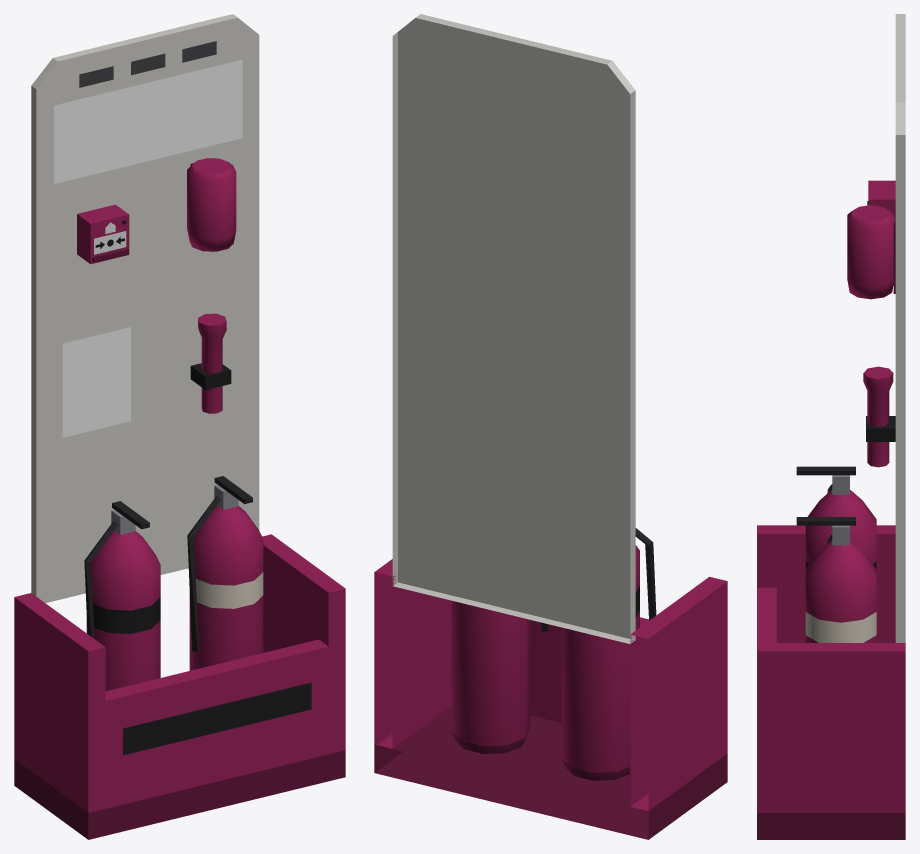
File: fire_point.glb
3 views of the same model, side by side, from view 1: azimuth 30°, elevation 25°; view 2: azimuth 150°, elevation 25°; view 3: azimuth 270°, elevation 25° (orthographic). The views are drawn at different scales.
Visible parts, largest first — view 1: fire_point; view 2: fire_point; view 3: fire_point.
Boxes of the visible parts, x1=… form: fire_point: x1=14, y1=14, x2=345, y2=839; fire_point: x1=374, y1=14, x2=727, y2=839; fire_point: x1=757, y1=14, x2=905, y2=839.
Bounding box in the file's own units: 0.6 × 1.6 × 0.301.
